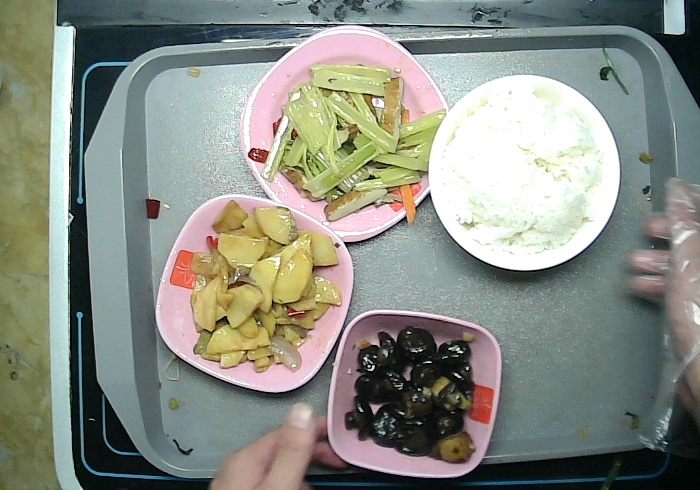SHKJ-Fan_Wan: (427, 67, 624, 273)
SHKJ-Fen_Se_Cai_Die: (155, 192, 358, 395)
SHKJ-Fen_Se_Si_Fang_Cai_Die: (233, 25, 450, 243)
SHKJ-Fen_Se_Xiao_Fang_Die: (325, 308, 504, 477)
